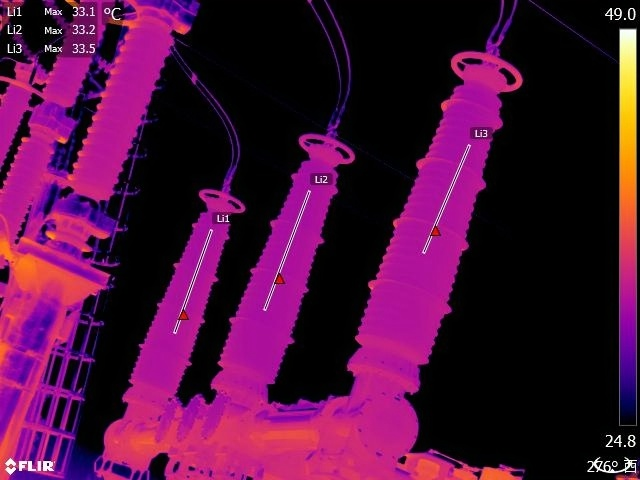lightning arrester: (33, 1, 208, 240), (1, 1, 118, 259), (1, 56, 52, 166)
tube: (342, 29, 531, 388), (212, 114, 357, 402), (123, 172, 247, 396)
